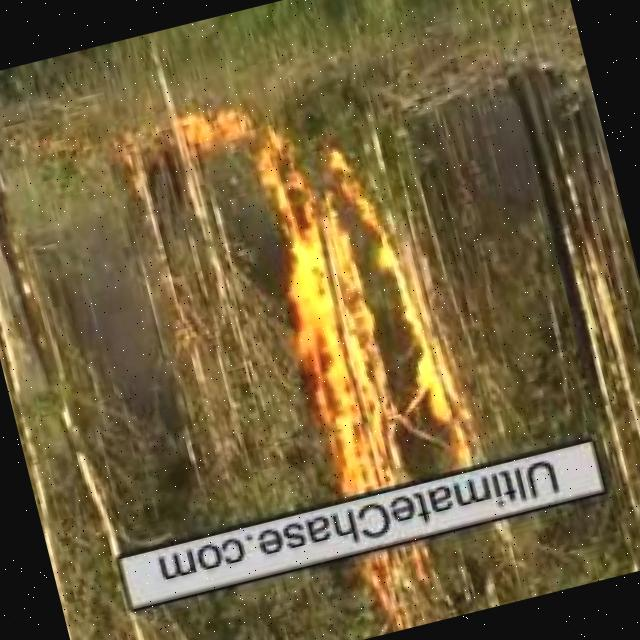fire: (232, 115, 484, 505), (505, 137, 640, 456), (322, 529, 464, 639), (167, 97, 266, 143)
